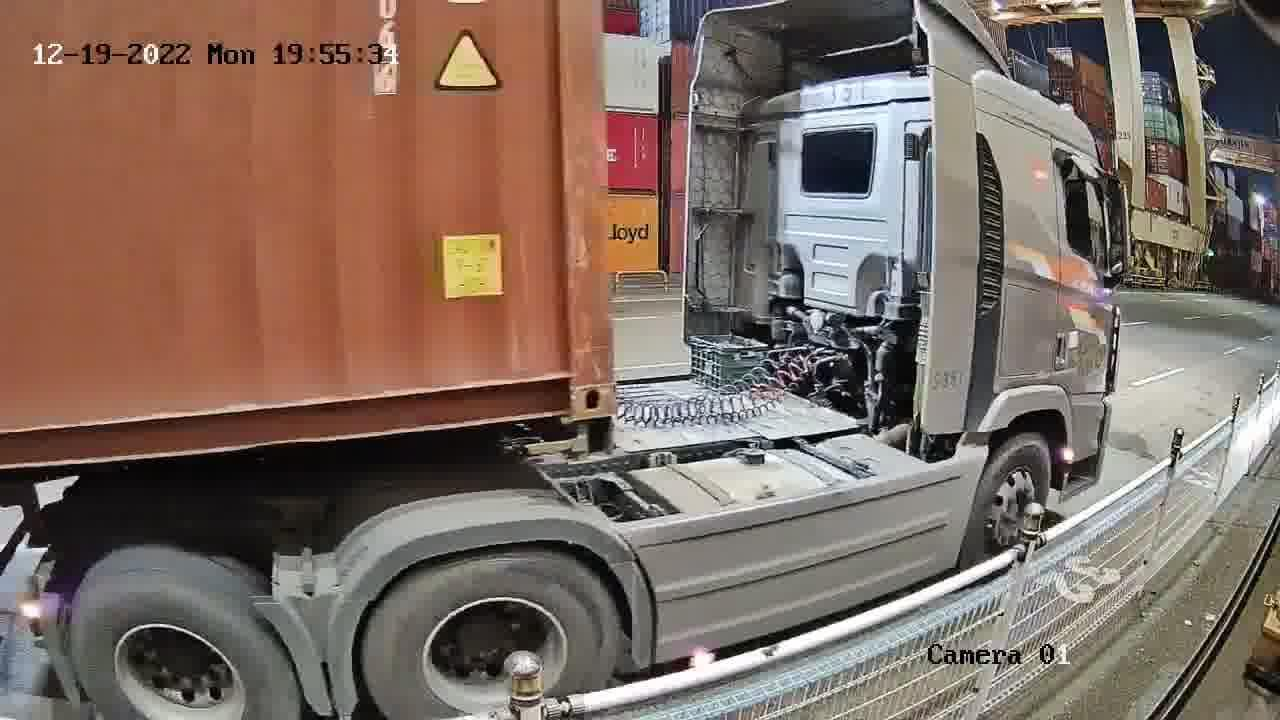Cone: (556, 416, 617, 462)
Hole_R: (490, 310, 616, 422)
Tire: (368, 550, 618, 718), (70, 562, 295, 717)
